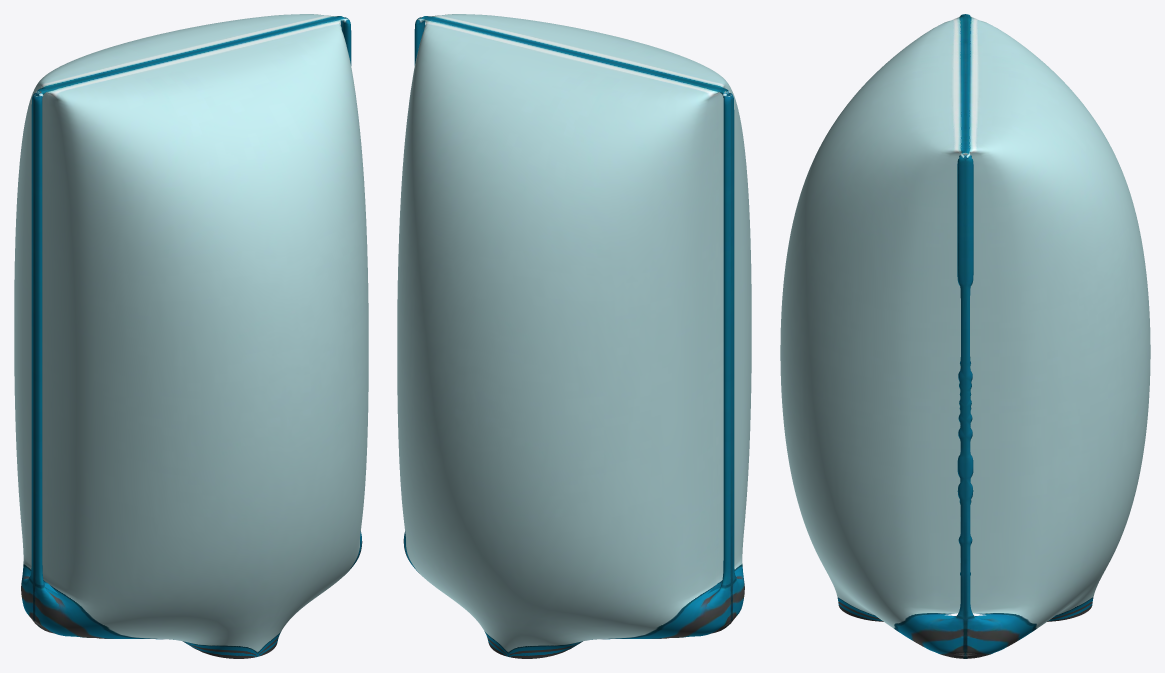
The model's file is ice_wall_panel.glb.
3 views of the same model, side by side, from view 1: azimuth 30°, elevation 25°; view 2: azimuth 150°, elevation 25°; view 3: azimuth 270°, elevation 25° (orthographic). The views are drawn at different scales.
Visible parts, largest first — view 1: ice_wall_panel; view 2: ice_wall_panel; view 3: ice_wall_panel.
Boxes of the visible parts, bbox=[...] form: ice_wall_panel: bbox=[14, 14, 368, 658]; ice_wall_panel: bbox=[397, 14, 751, 658]; ice_wall_panel: bbox=[780, 14, 1150, 658].
Bounding box in the file's own units: 0.9818 × 1.65 × 1.06.
Materials: 1 (1 with a texture image).
